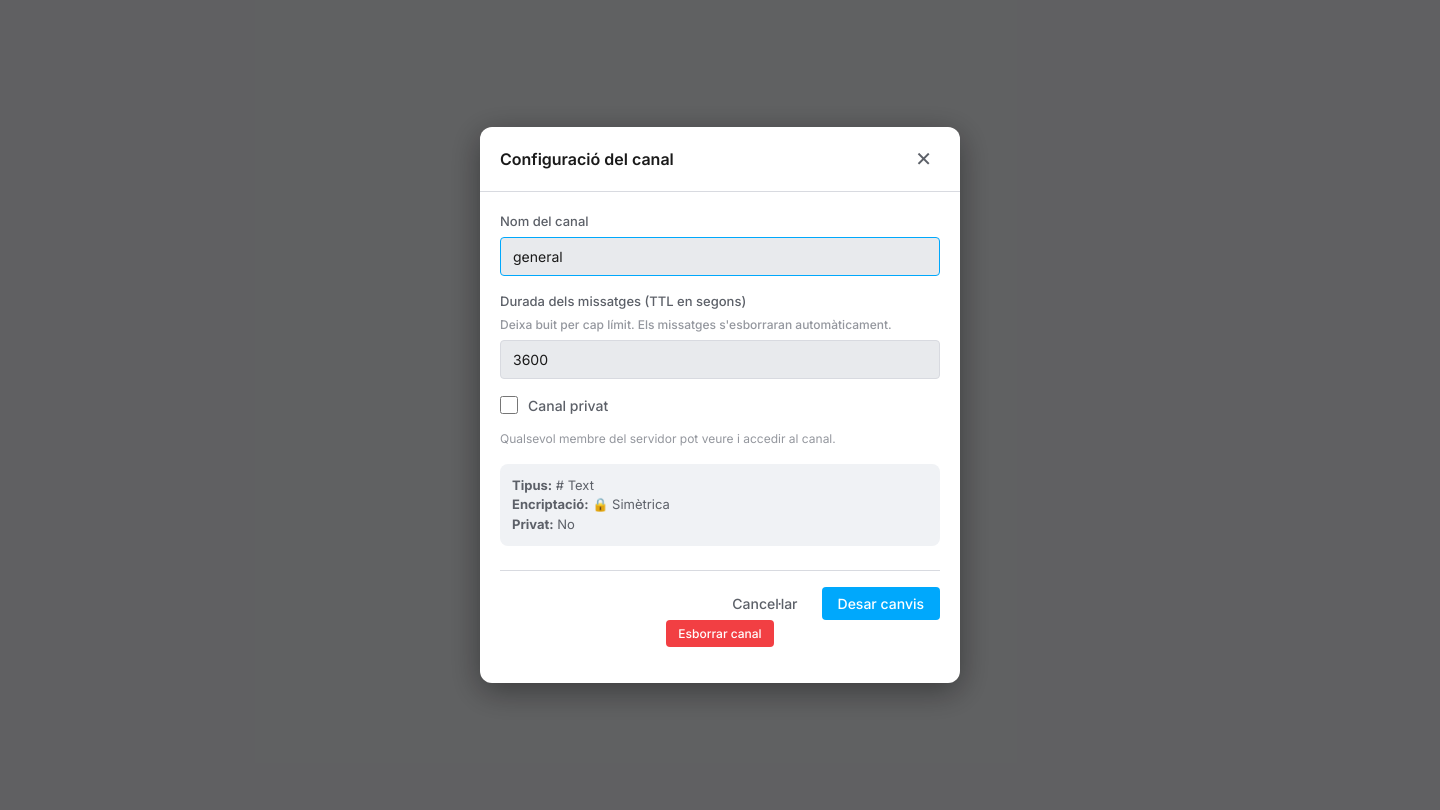
ConfigureChannelModal › cancel·lar esborrat tanca el confirmation
This screenshot has width=1440, height=810.
Click the button "Esborrar canal".
click(720, 634)  # box [666, 620, 774, 647]
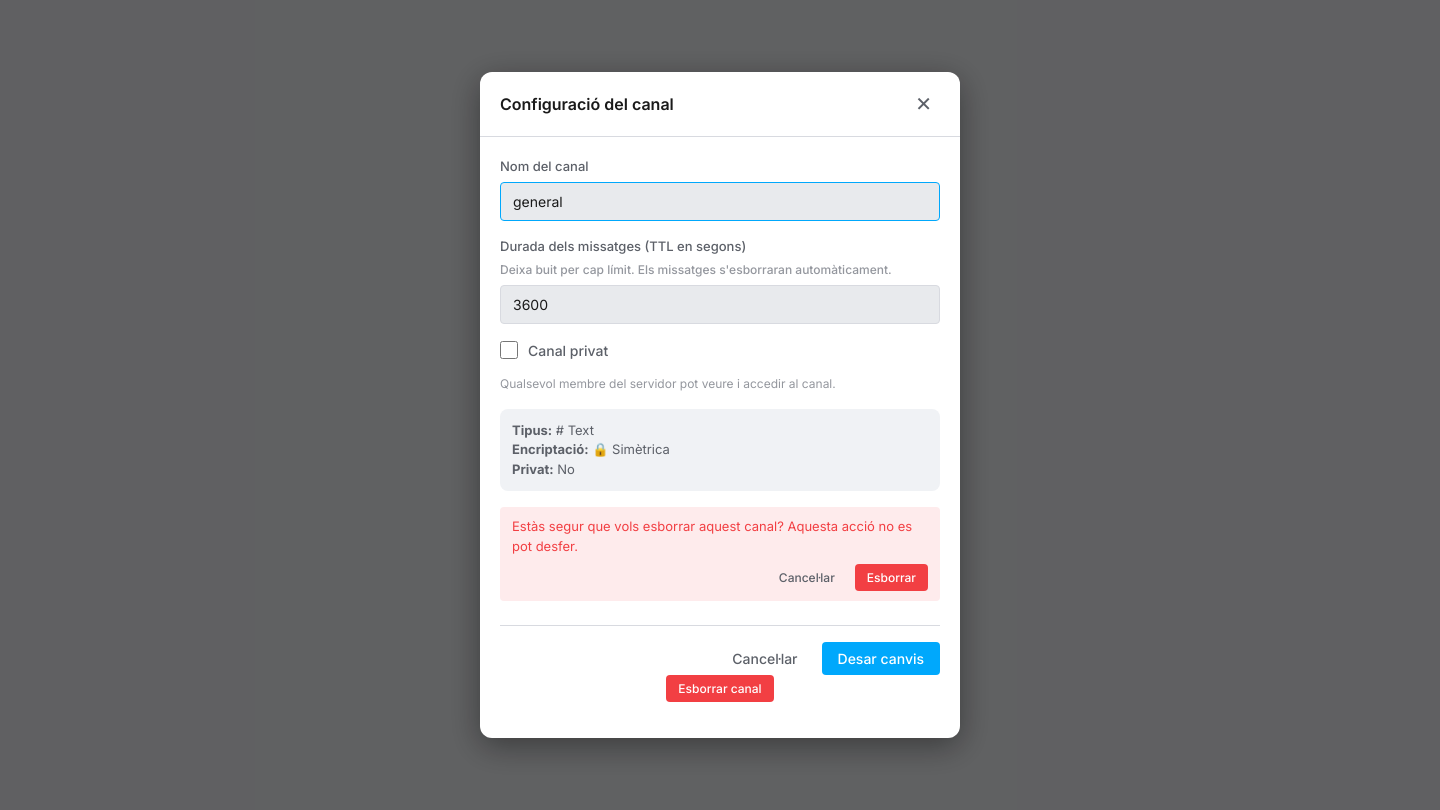
the one inside the error confirm div (first one)
Click the 1st button "Cancel·lar".
click(807, 578)  # box [767, 564, 847, 591]
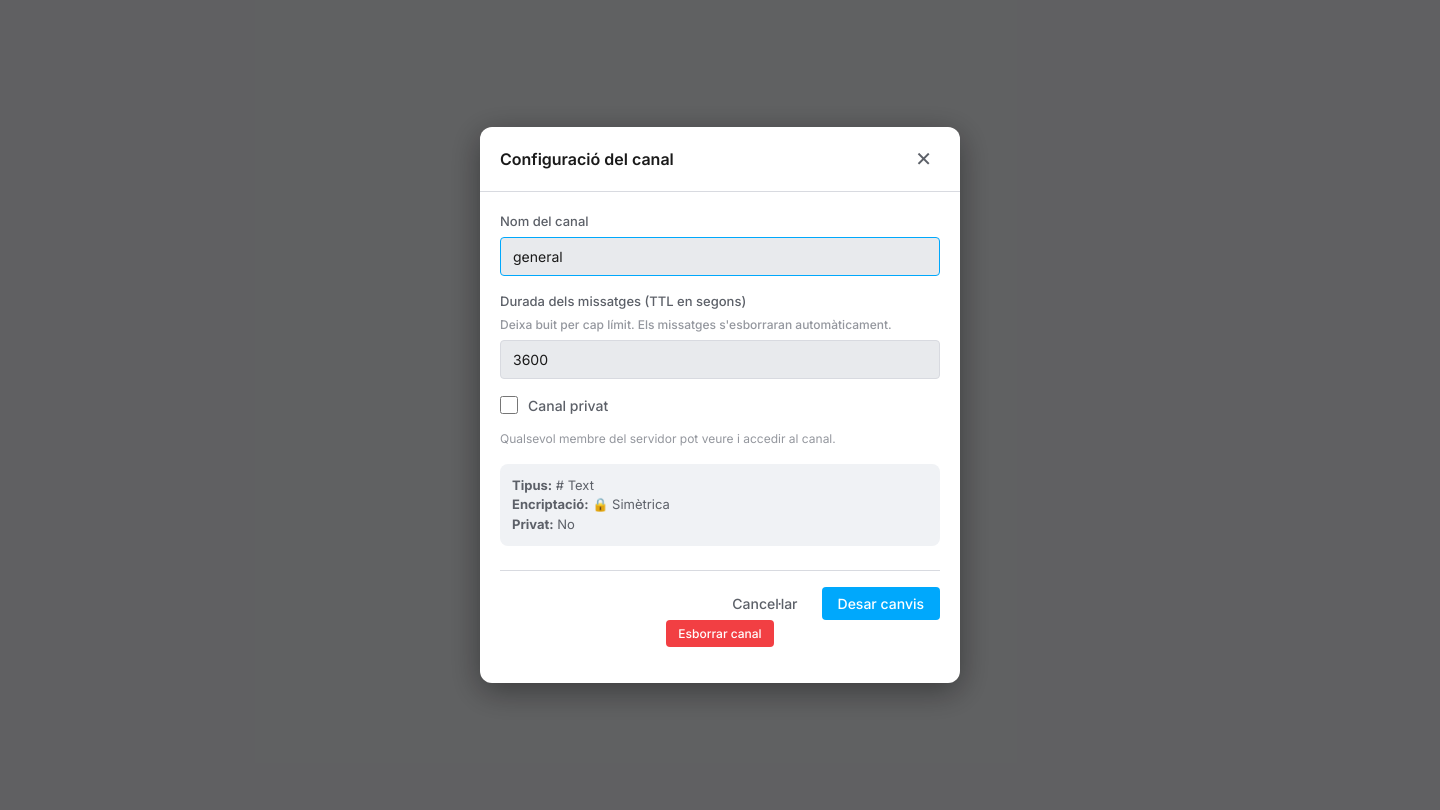
Expected: the text "Estàs segur que vols esborrar aquest canal" is gone
